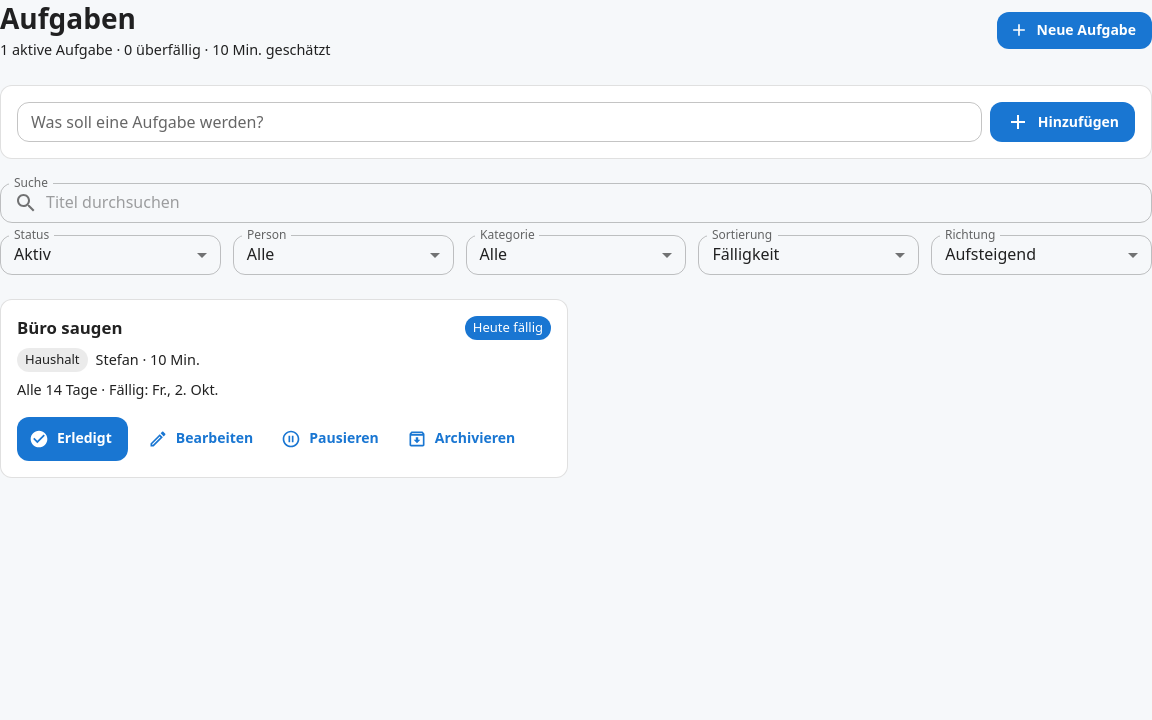
it: pause and resume on the Tenners page › pauses until a date
Click the button with aria-label "„Büro saugen“ pausieren".
click(332, 439)  # box top-left (277, 420), bottom-right (387, 457)
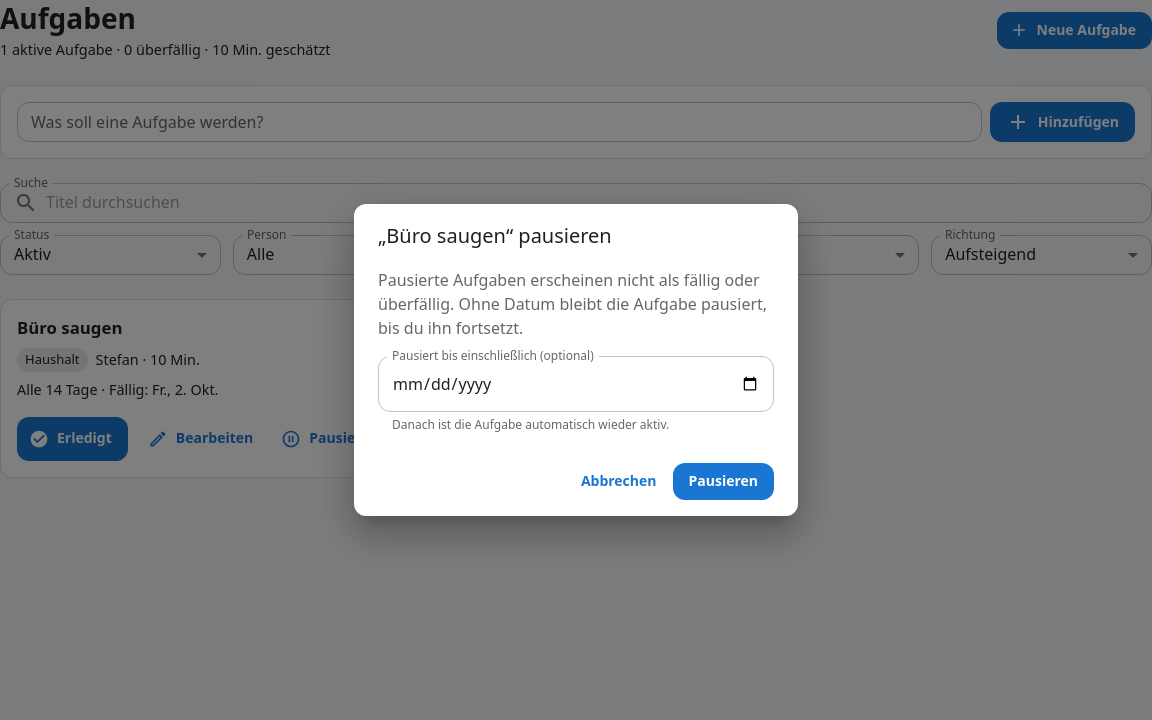
Type "2026-10-09" into the date field labelled "Pausiert bis einschließlich (optional)".
click(576, 384); type("2026-10-09")  # box top-left (378, 356), bottom-right (774, 412)
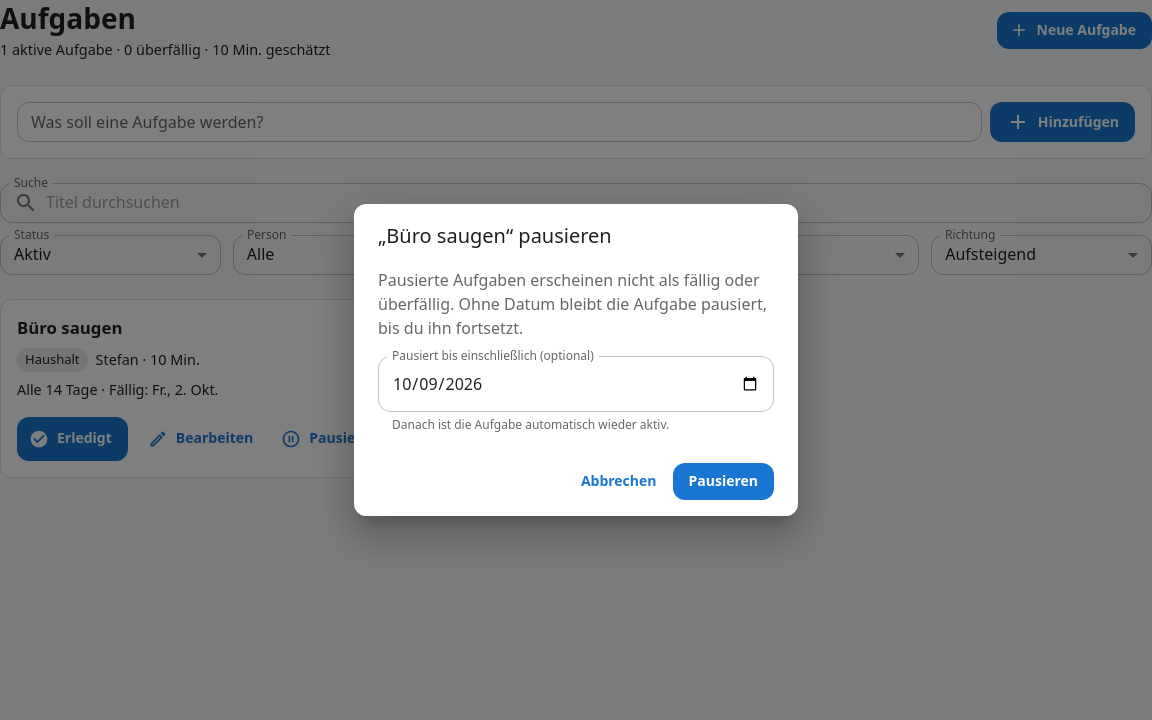
Click the button "Pausieren".
click(723, 481)  # box top-left (672, 463), bottom-right (774, 500)
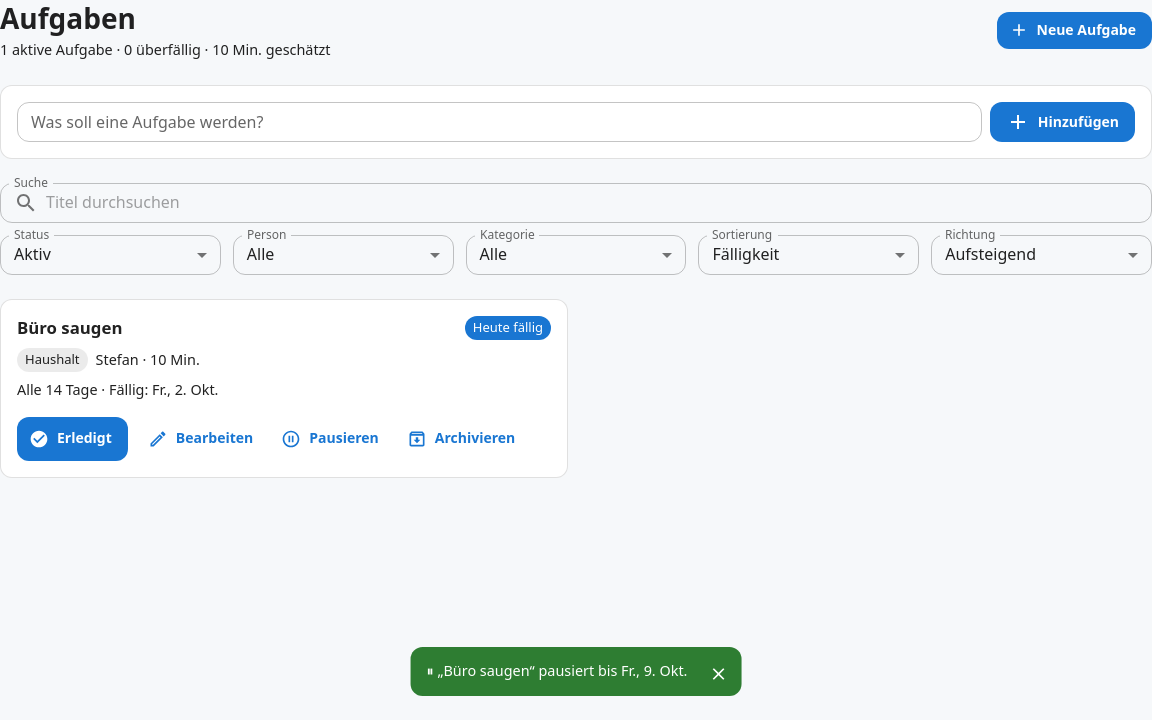
Now the text "⏸ „Büro saugen“ pausiert bis Fr., 9. Okt." is shown, box top-left (427, 661), bottom-right (688, 680)
